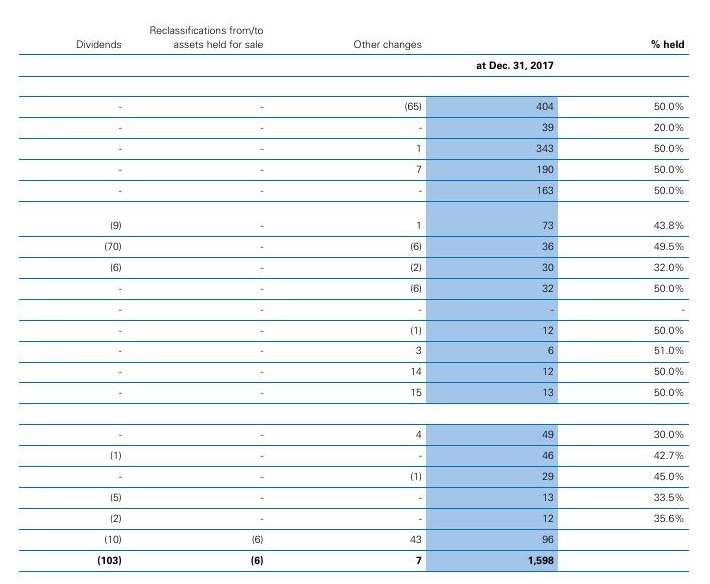table: (0, 0, 710, 584)
